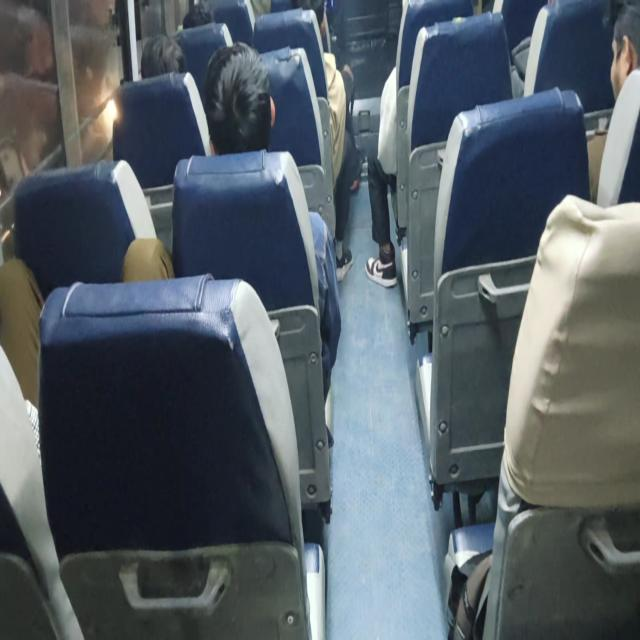person: (202, 41, 342, 445), (365, 0, 474, 288), (269, 1, 360, 282), (586, 2, 640, 203), (203, 41, 276, 155), (609, 2, 639, 102), (17, 8, 57, 82), (140, 32, 187, 79)
